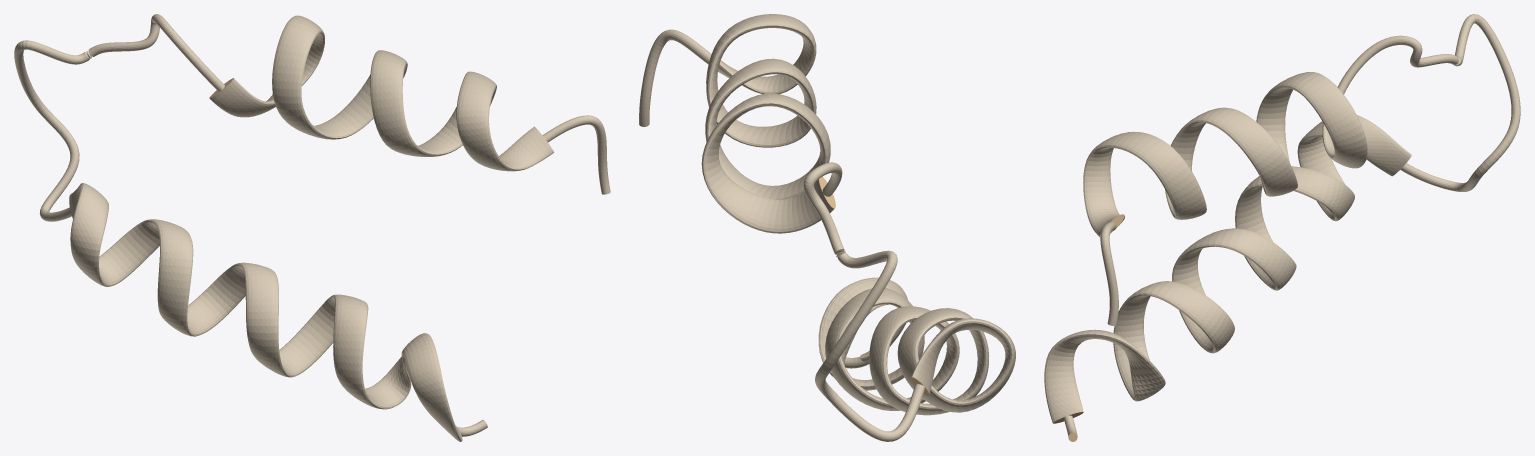
Rendered from rCoilfCoilrCoil.dae.
3 views of the same model, side by side, from view 1: azimuth 30°, elevation 25°; view 2: azimuth 150°, elevation 25°; view 3: azimuth 270°, elevation 25° (orthographic). The views are drawn at different scales.
Visible parts, largest first — view 1: Shape_IndexedTriangleStripSet_040; view 2: Shape_IndexedTriangleStripSet_040; view 3: Shape_IndexedTriangleStripSet_040.
Part boxes in pixels (x1,y1,x2,y2): Shape_IndexedTriangleStripSet_040: [14, 14, 610, 441]; Shape_IndexedTriangleStripSet_040: [639, 14, 1015, 441]; Shape_IndexedTriangleStripSet_040: [1044, 14, 1520, 441].
Size of the model in its own units: 27.04 by 25.83 by 20.14.
